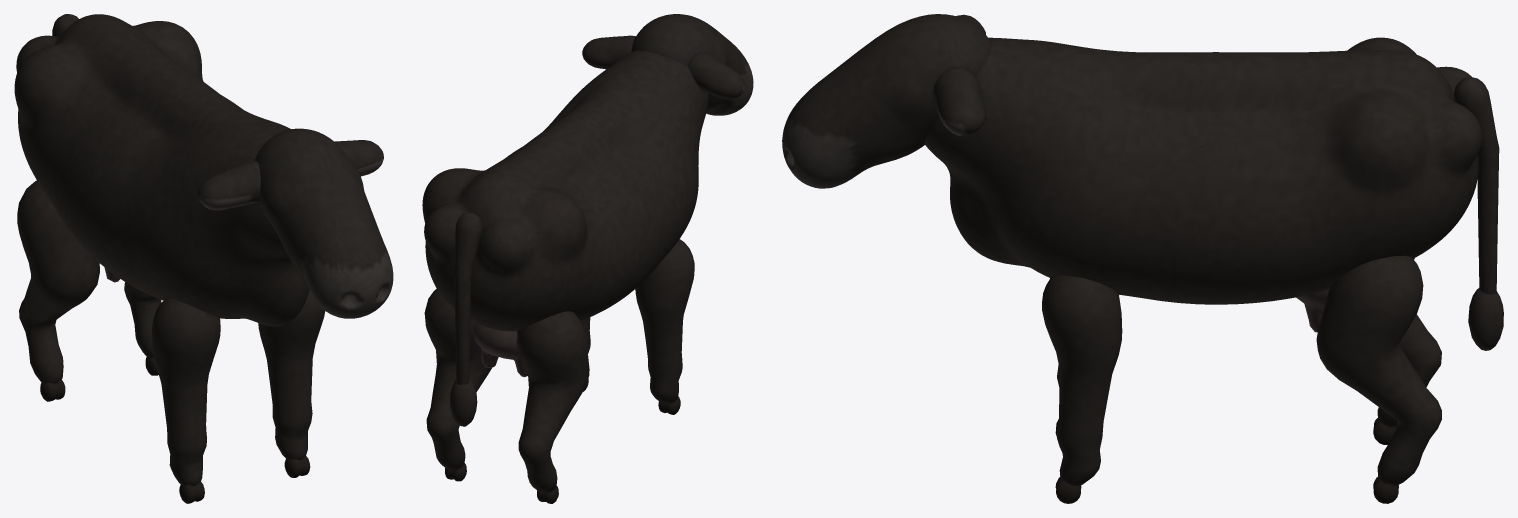
File: animal_angus_cow.glb
3 views of the same model, side by side, from view 1: azimuth 30°, elevation 25°; view 2: azimuth 150°, elevation 25°; view 3: azimuth 270°, elevation 25° (orthographic). The views are drawn at different scales.
Parts seen in each view (by area): view 1: animal_angus_cow, head, leg2, leg0, leg1, leg3; view 2: animal_angus_cow, leg2, head, leg0, leg3, tail; view 3: animal_angus_cow, head, leg3, leg1, tail, leg2.
Boxes of the visible parts, bbox=[...] form: animal_angus_cow: bbox=[14, 14, 309, 326]; head: bbox=[197, 128, 393, 318]; leg2: bbox=[17, 180, 99, 401]; leg0: bbox=[151, 298, 220, 503]; leg1: bbox=[258, 290, 325, 477]; leg3: bbox=[124, 282, 161, 375]; animal_angus_cow: bbox=[422, 50, 708, 377]; leg2: bbox=[517, 311, 589, 503]; head: bbox=[582, 14, 753, 115]; leg0: bbox=[635, 239, 694, 414]; leg3: bbox=[424, 288, 491, 481]; tail: bbox=[450, 212, 482, 426]; animal_angus_cow: bbox=[925, 37, 1482, 332]; head: bbox=[782, 14, 990, 188]; leg3: bbox=[1316, 255, 1441, 503]; leg1: bbox=[1042, 275, 1122, 503]; tail: bbox=[1454, 77, 1503, 350]; leg2: bbox=[1373, 258, 1441, 444].
Size of the model in its own units: 0.2778 by 0.5618 by 0.8126.
Materials: 1 (1 with a texture image).
